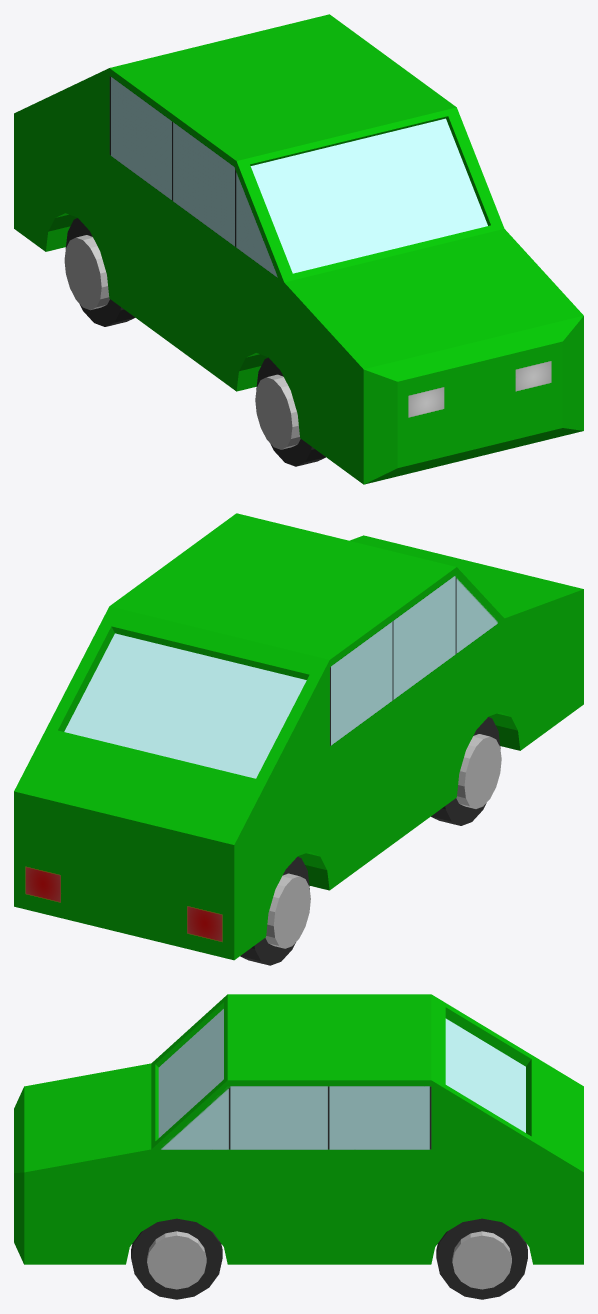
File: car1.obj
The picture shows the model from 3 angles, top to bottom: view 1: azimuth 30°, elevation 25°; view 2: azimuth 150°, elevation 25°; view 3: azimuth 270°, elevation 25°; orthographic projection. The views are drawn at different scales.
Parts seen in each view (by area): view 1: Cylinder.003_Cylinder.002; view 2: Cylinder.003_Cylinder.002; view 3: Cylinder.003_Cylinder.002.
Boxes of the visible parts, x1,y1,x2,y2 form: Cylinder.003_Cylinder.002: (14,14,583,484); Cylinder.003_Cylinder.002: (14,513,583,965); Cylinder.003_Cylinder.002: (14,994,583,1299).
Size of the model in its own units: 2 by 2.45 by 5.6.
